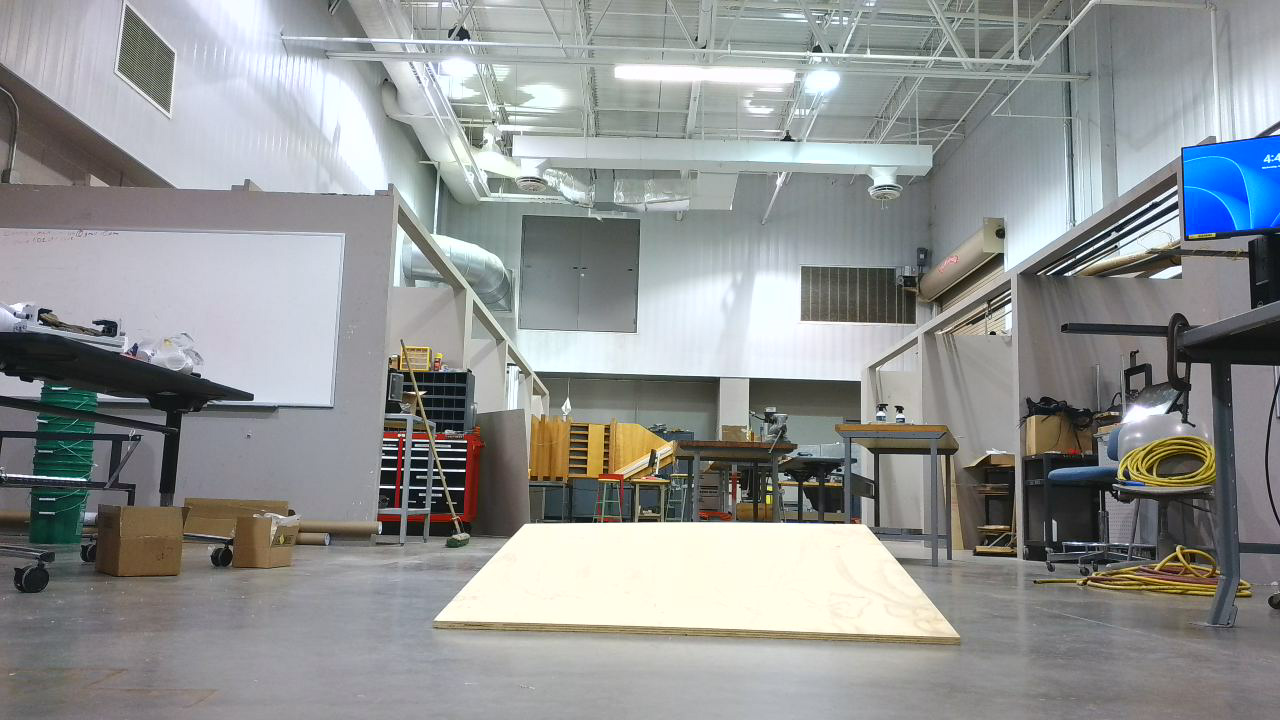ramp: (431, 522, 971, 656)
